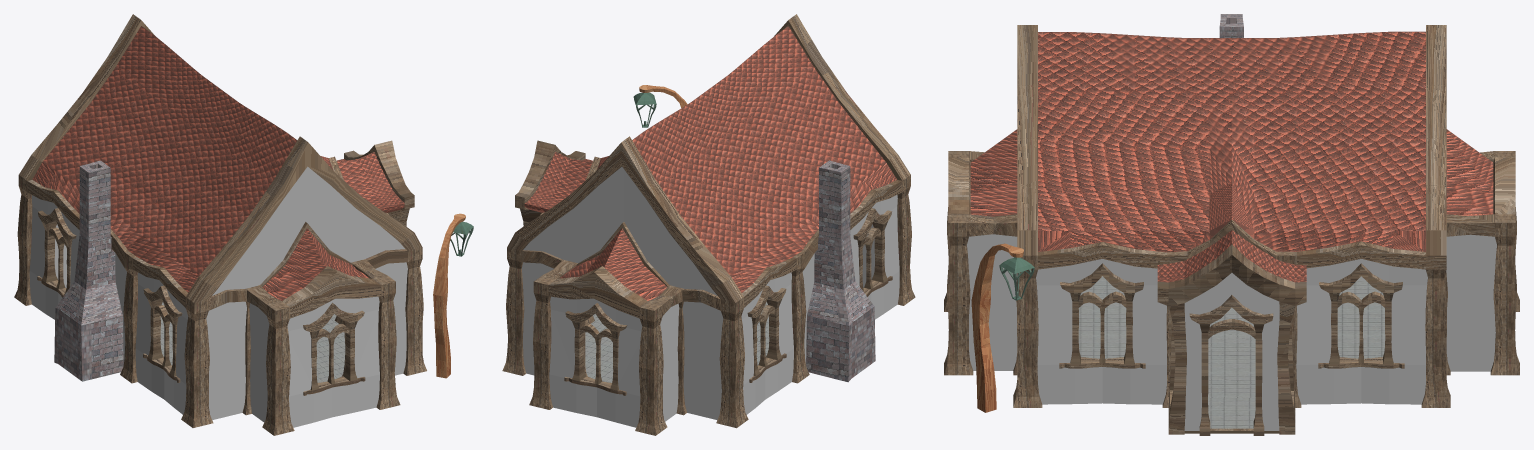
File: Fantasy_House.fbx
The picture shows the model from 3 angles, left to right: view 1: azimuth 30°, elevation 25°; view 2: azimuth 150°, elevation 25°; view 3: azimuth 270°, elevation 25°; orthographic projection. The views are drawn at different scales.
Visible parts, largest first — view 1: House, Laterne; view 2: House, Laterne; view 3: House, Laterne.
Part boxes in pixels (<box>): House: <box>14,14,426,435</box>; Laterne: <box>433,213,473,378</box>; House: <box>502,14,915,435</box>; Laterne: <box>633,85,687,127</box>; House: <box>944,14,1519,435</box>; Laterne: <box>971,243,1034,412</box>.
Bounding box in the file's own units: 1593 × 1206 × 2001.
